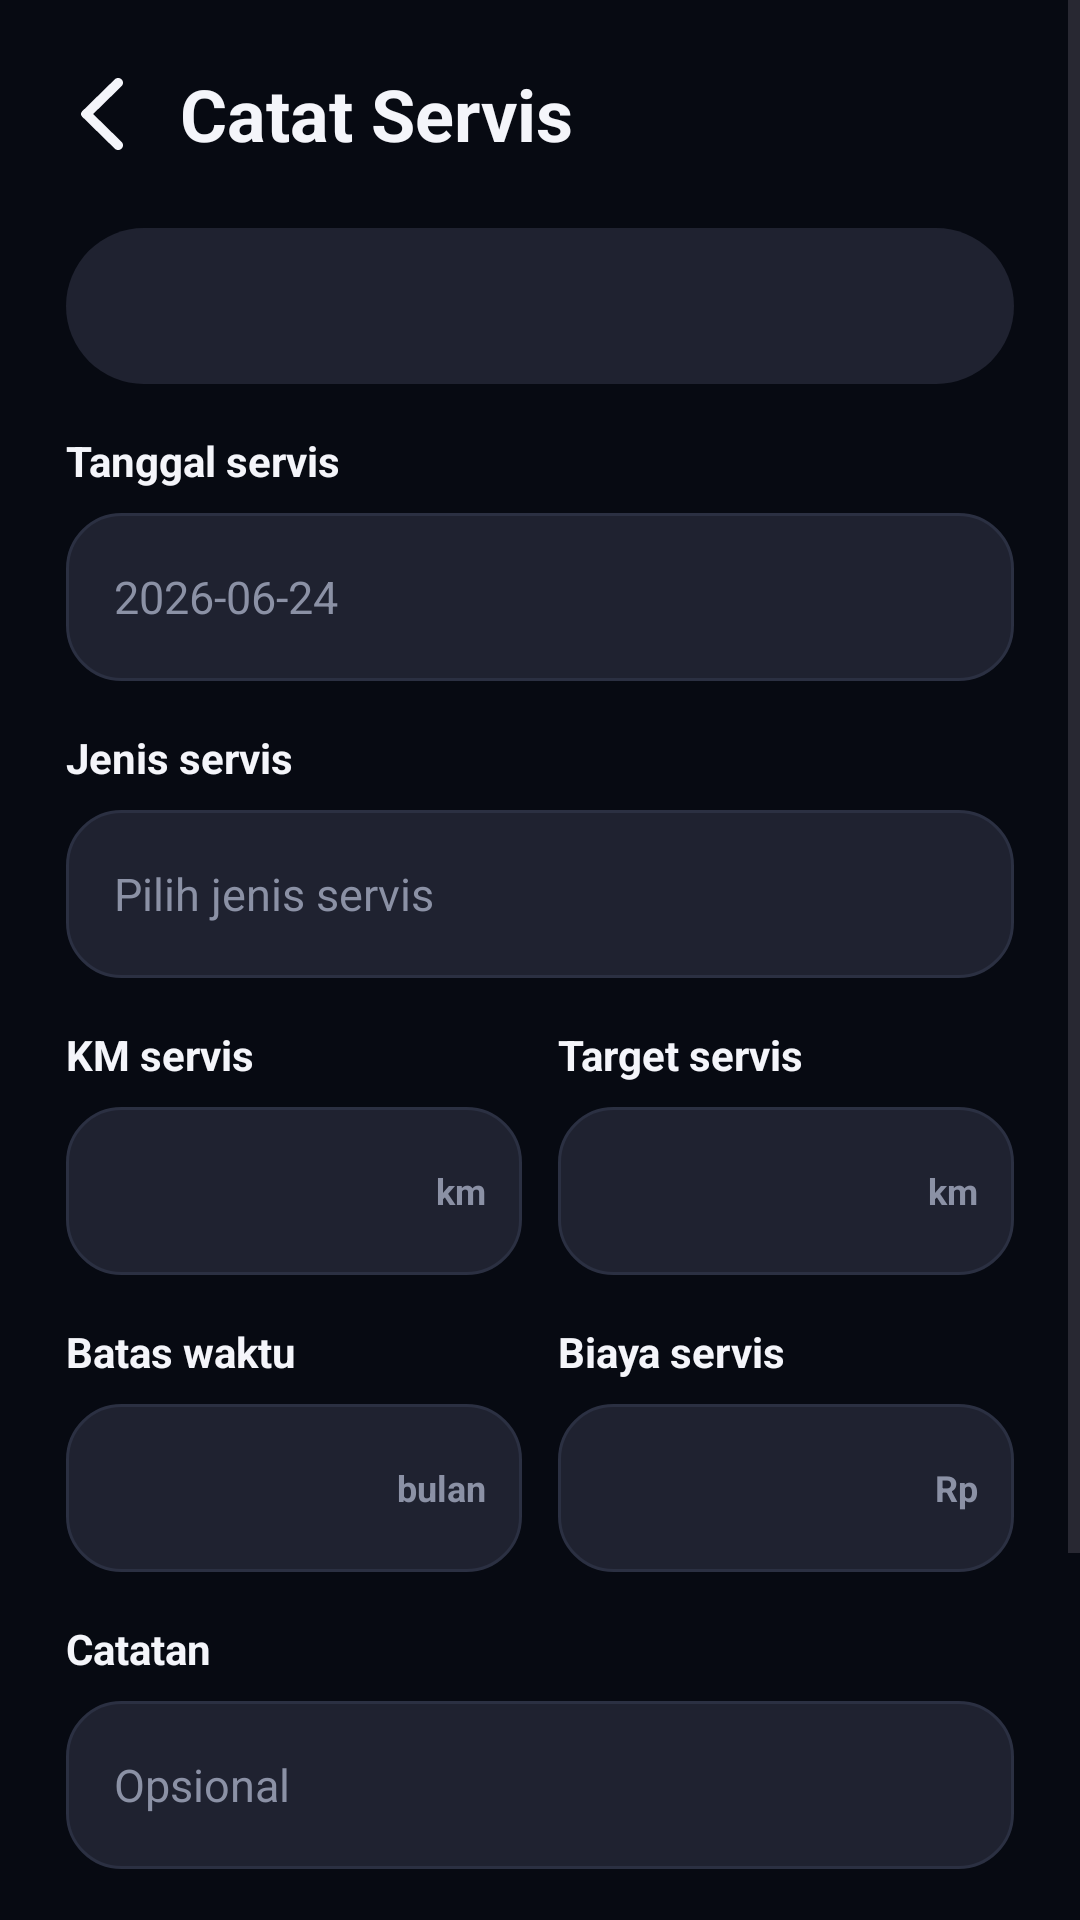

Named icons in this screenshot (1080 x 1920) and their bounding boxes, (x1, y1, x2, y2):
Kembali: (81, 78, 123, 150)
